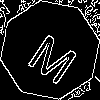M: (25, 25, 85, 87)
